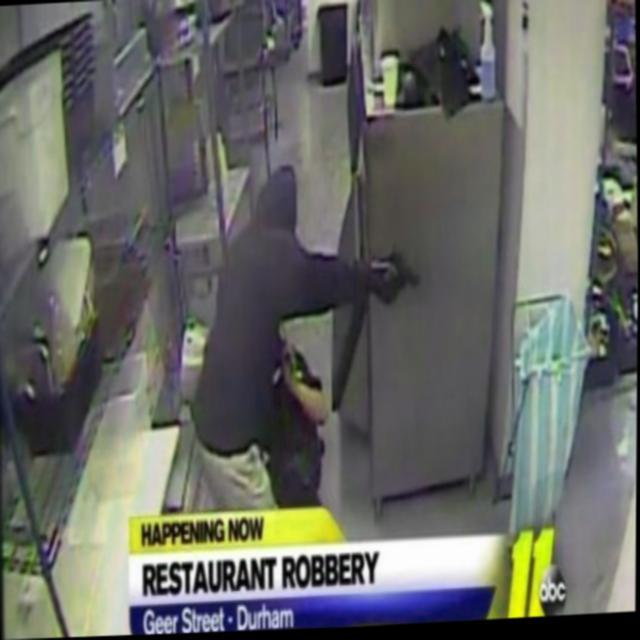weapon: (372, 250, 423, 312)
